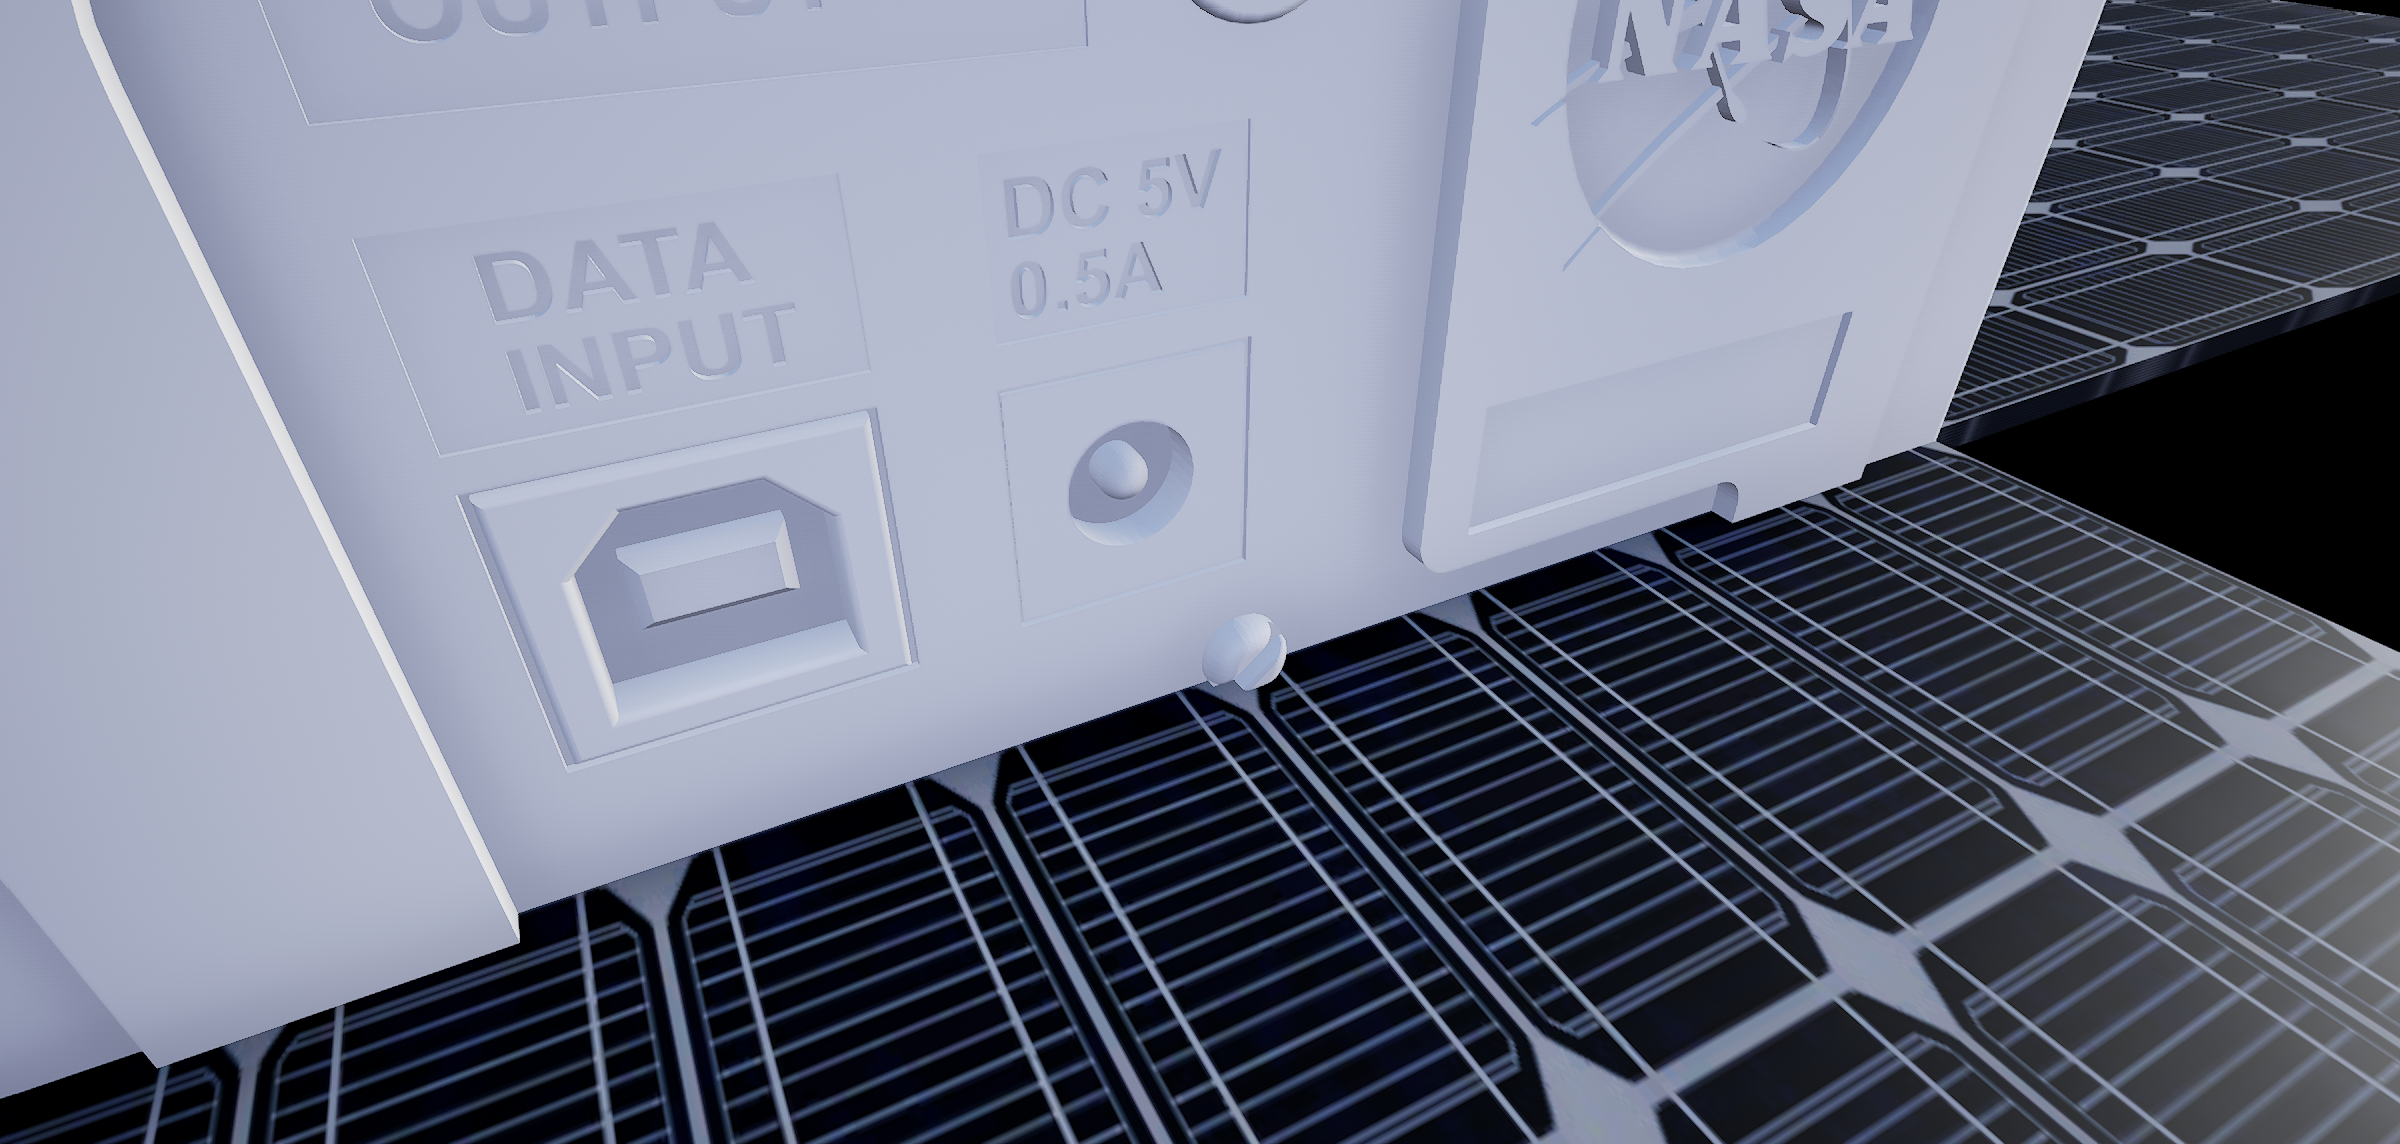dc: (1048, 417, 1220, 554)
usb: (549, 493, 877, 724)
